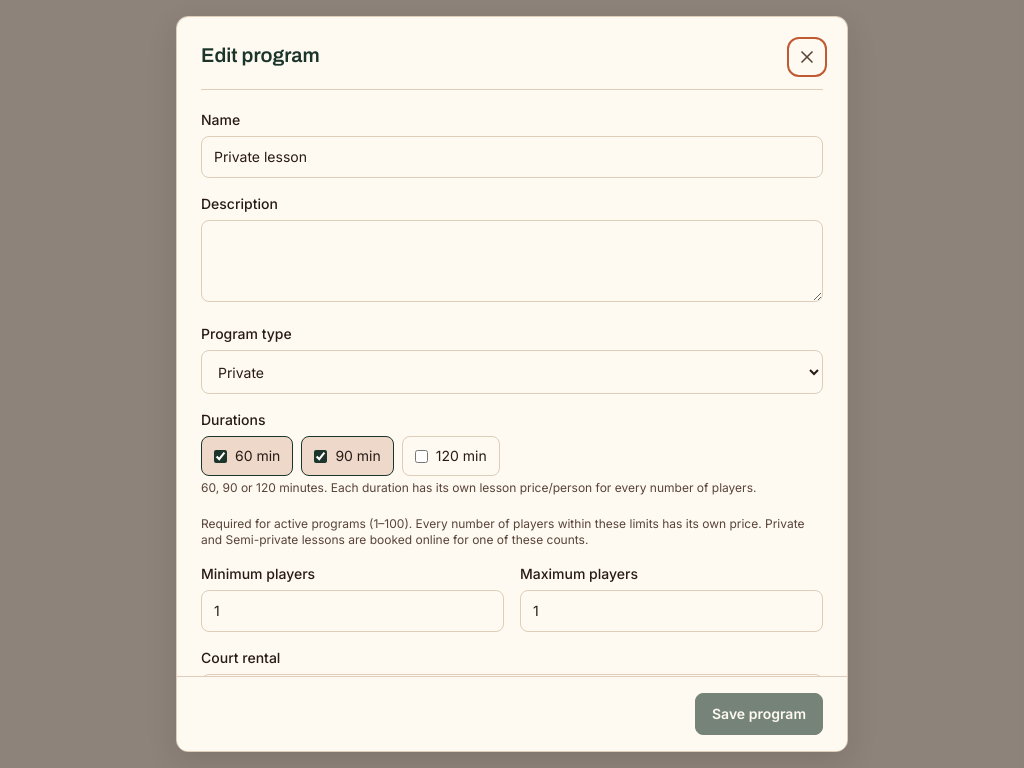
Scenario: keeps the draft and shows the server's field error beside the control
Click the checkbox labelled "90 min": {"x": 321, "y": 456} [314, 450, 327, 462]
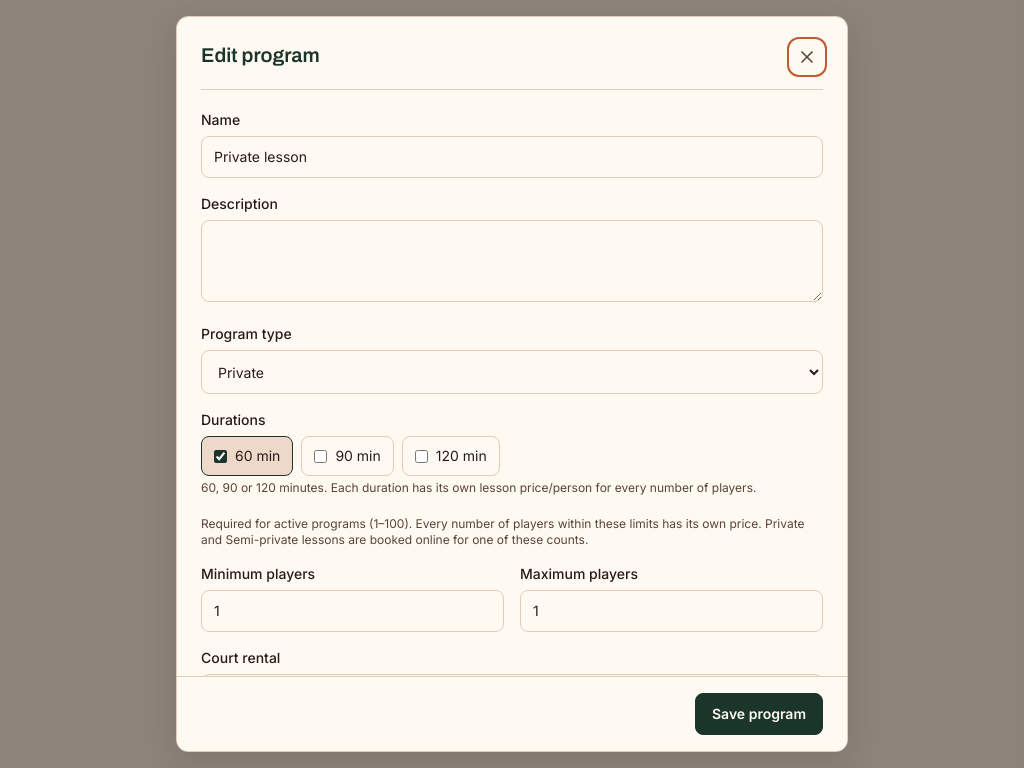
Replace the text in the field labelled "Name" with "Private coaching": {"x": 512, "y": 157} [201, 136, 823, 178]
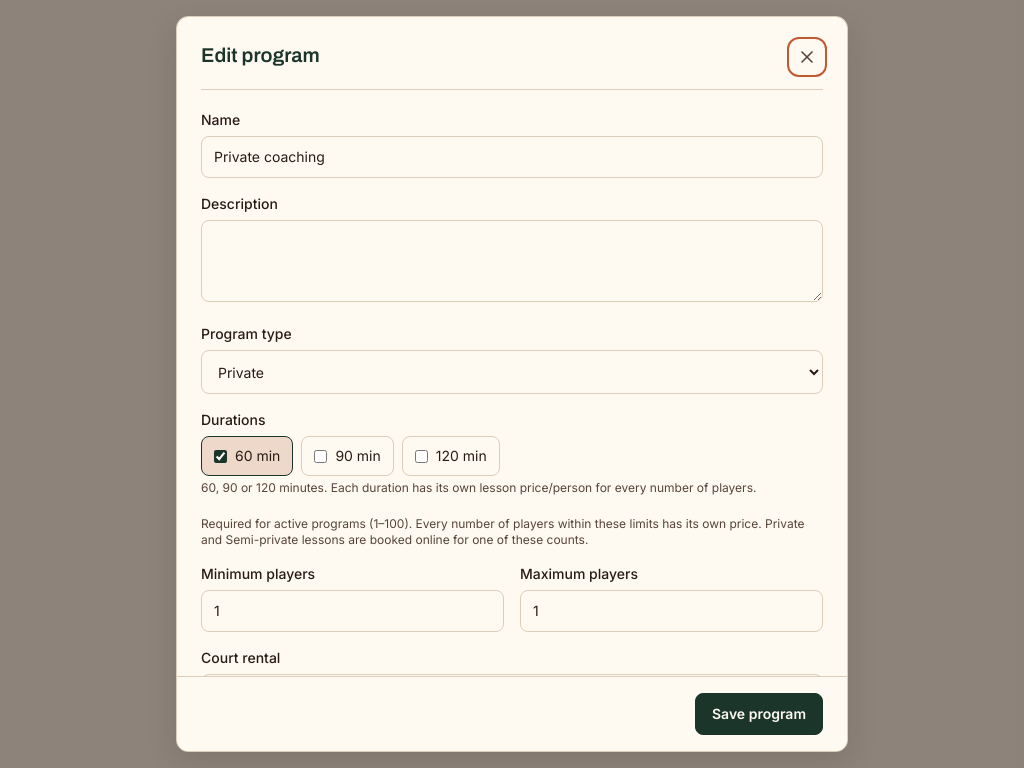
Click the button "Save program": {"x": 759, "y": 714} [695, 693, 823, 735]
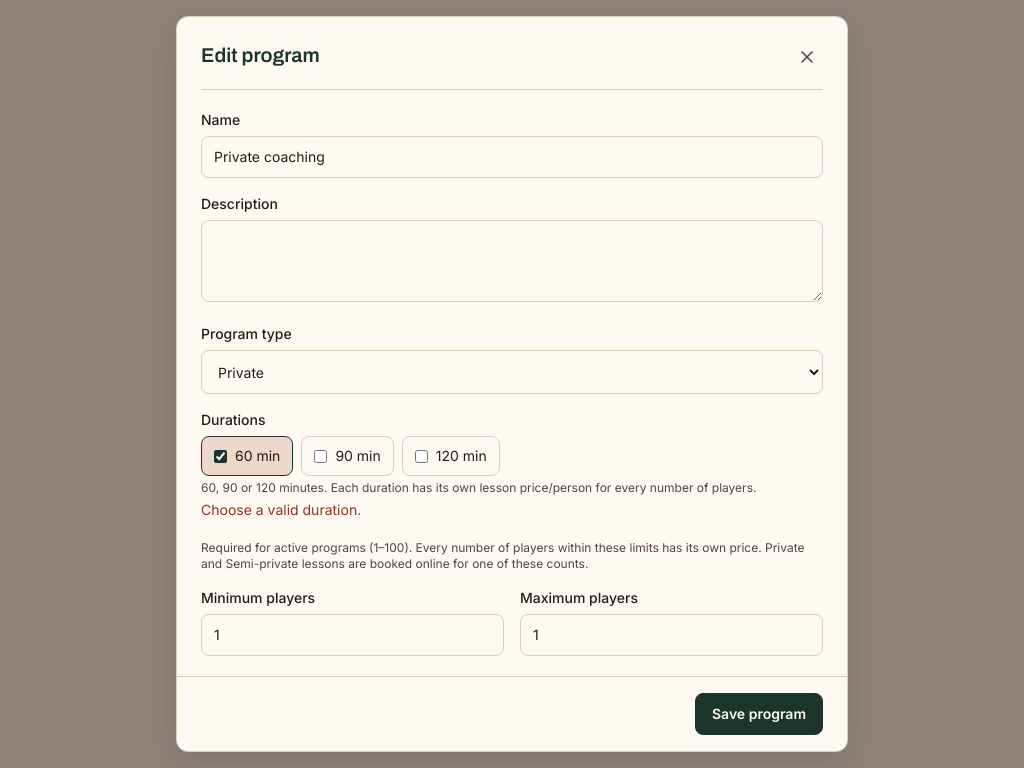
Result: the text "Choose a valid duration." is shown at [201, 501, 361, 518]
